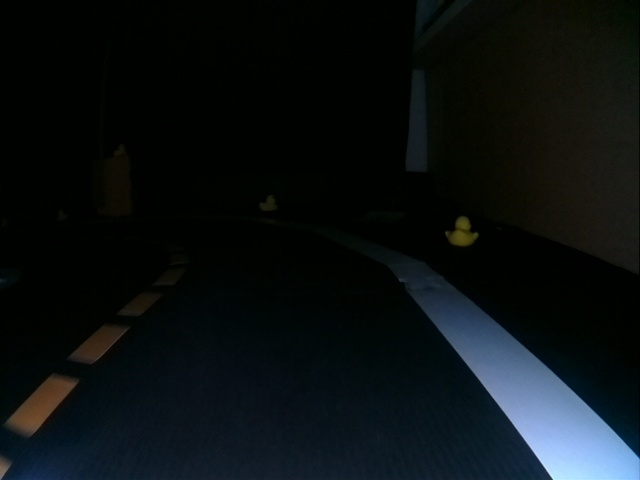Duckie: (445, 216, 476, 245), (259, 195, 277, 210), (114, 144, 126, 155)
